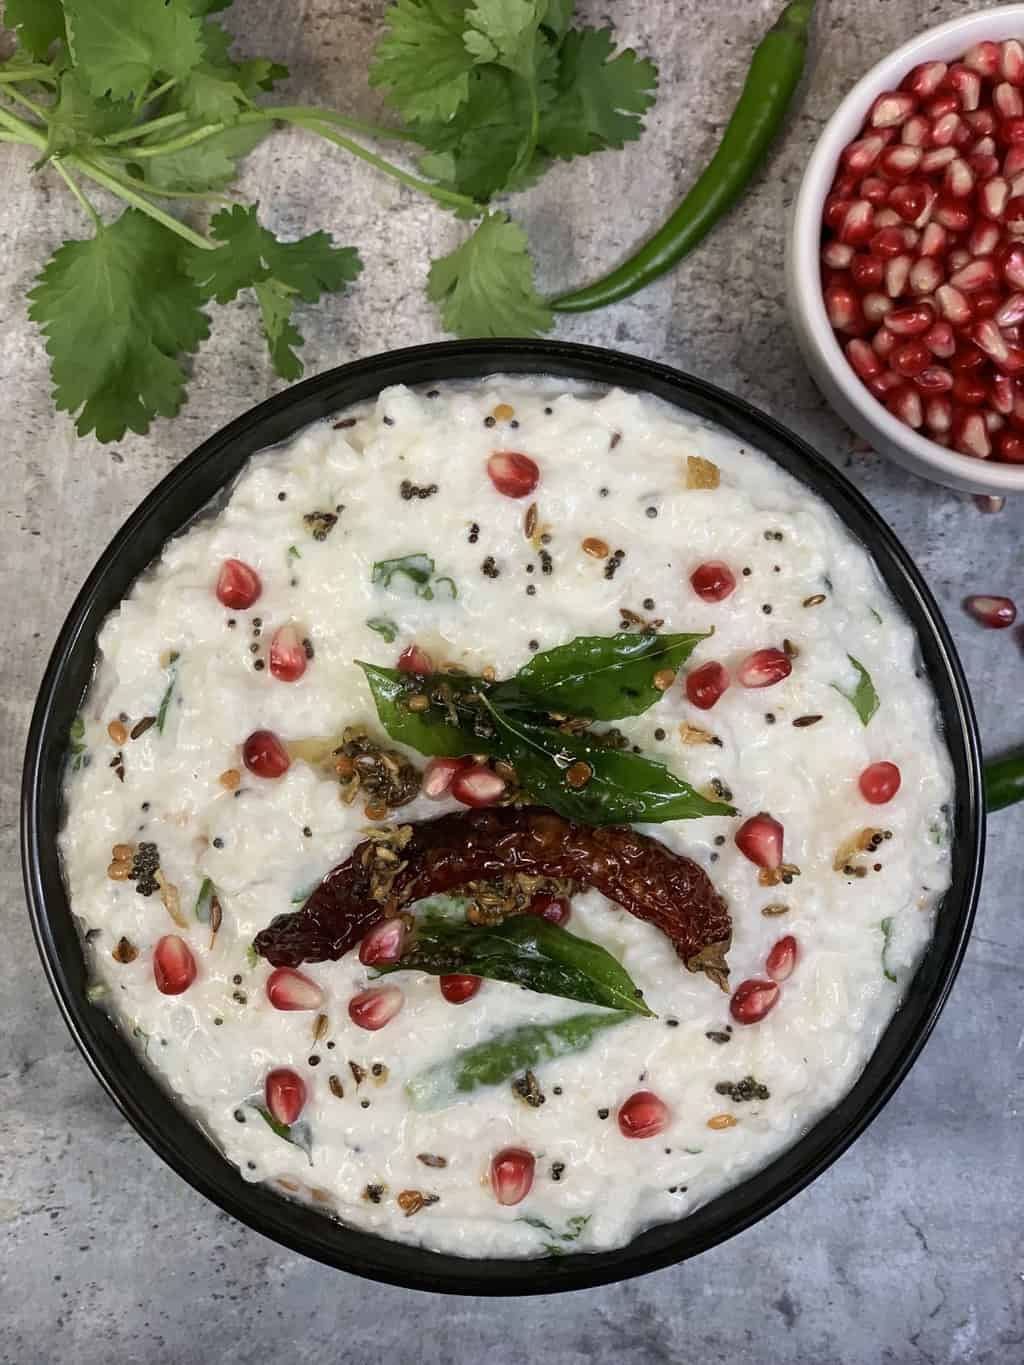curd_rice: (49, 323, 954, 1246)
